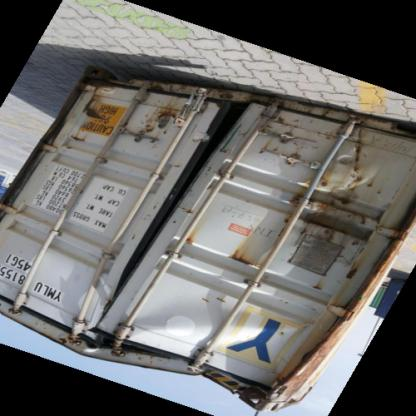Damage: (134, 327, 330, 407), (181, 86, 257, 210), (311, 134, 389, 228), (223, 248, 268, 289), (332, 250, 366, 288), (144, 105, 176, 133)
